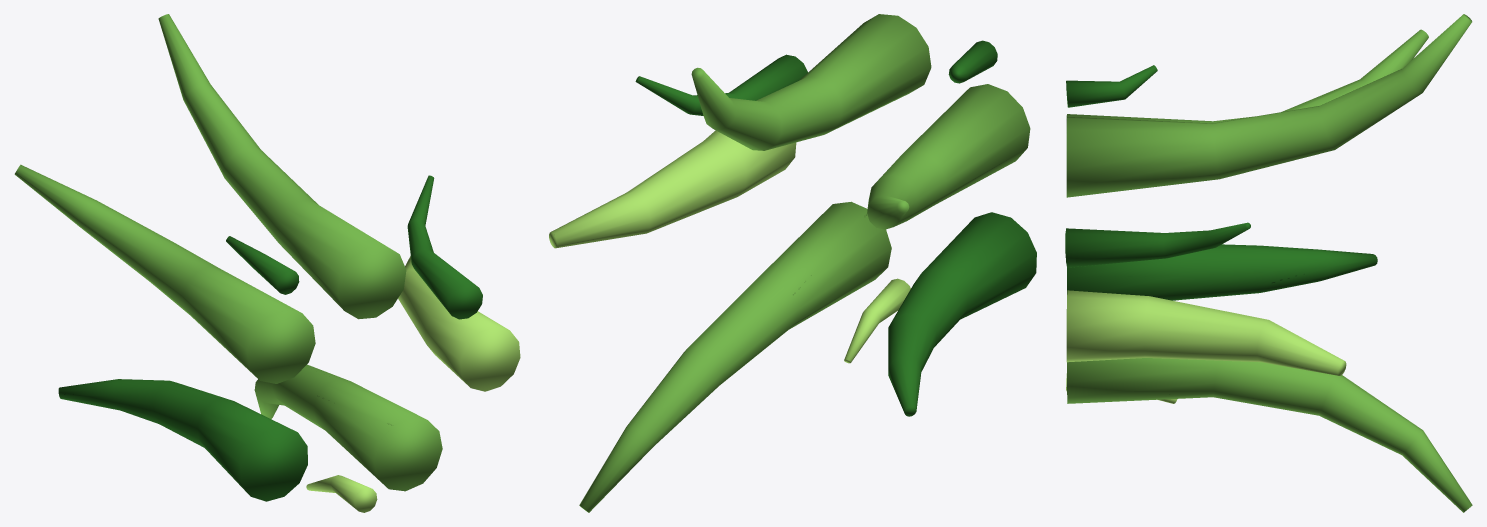
Rendered from grass3_turned.fbx.
3 renders of one model, left to right at view 1: azimuth 30°, elevation 25°; view 2: azimuth 150°, elevation 25°; view 3: azimuth 270°, elevation 25°, orthographic. The views are drawn at different scales.
Visible parts, largest first — view 1: grass3; view 2: grass3; view 3: grass3.
Part boxes in pixels (box(x1,y1,x2,y2)): grass3: box(14, 14, 520, 512); grass3: box(549, 14, 1036, 512); grass3: box(1065, 14, 1472, 512).
Bounding box in the file's own units: 281 × 314 × 260.
